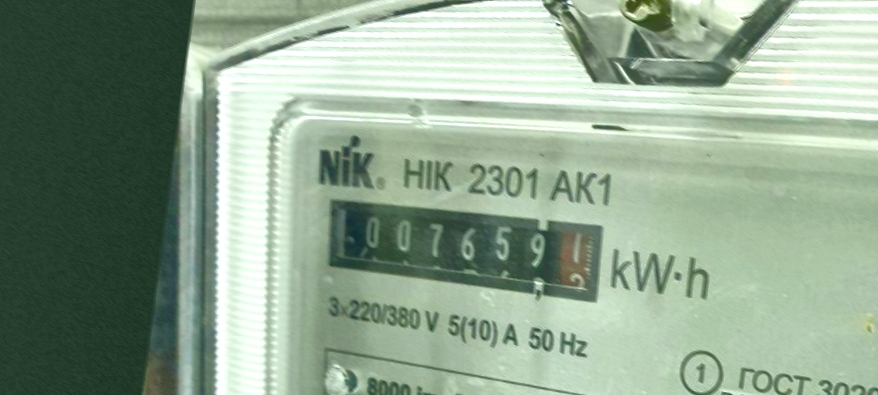0: (391, 215, 416, 257), (360, 213, 385, 253)
1: (564, 229, 588, 268)
5: (489, 223, 516, 266)
6: (455, 223, 482, 266)
7: (422, 219, 449, 261)
9: (524, 230, 550, 272)
screen: (312, 184, 613, 314)
